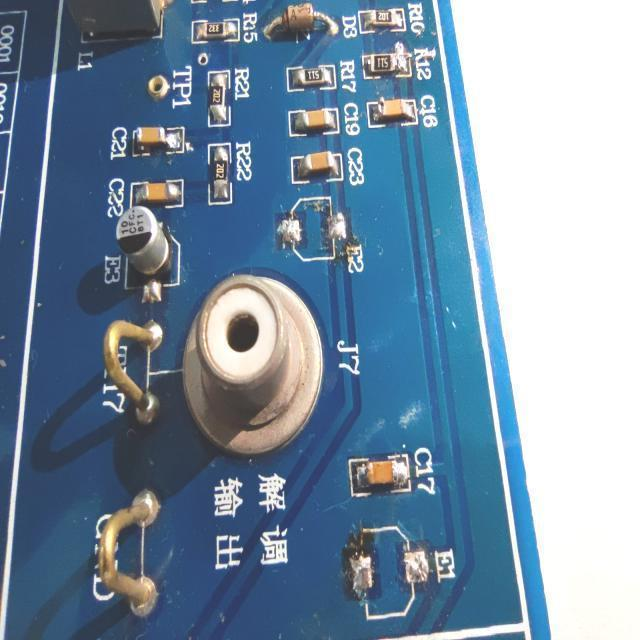Missing component: (348, 522, 457, 624), (276, 194, 368, 274)
